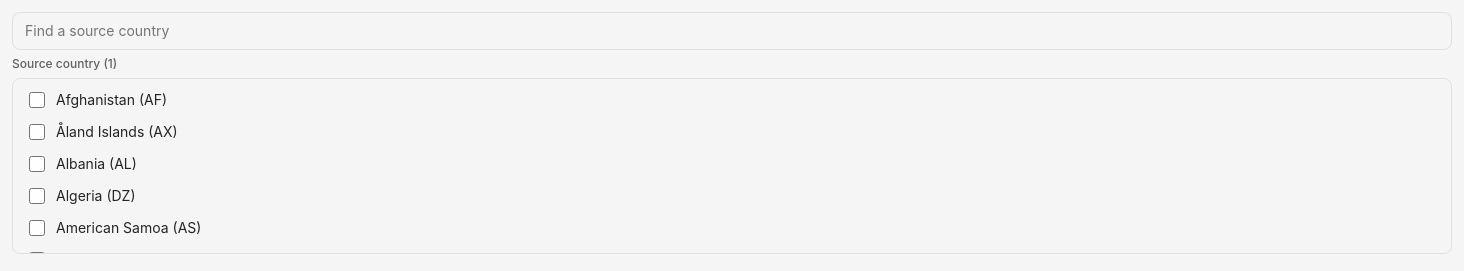
Test: keeps a selected country listed while the search hides the others
Type "fran" into the field labelled "Find a source country". click: {"x": 732, "y": 31}
box: left=12, top=12, right=1452, bottom=50
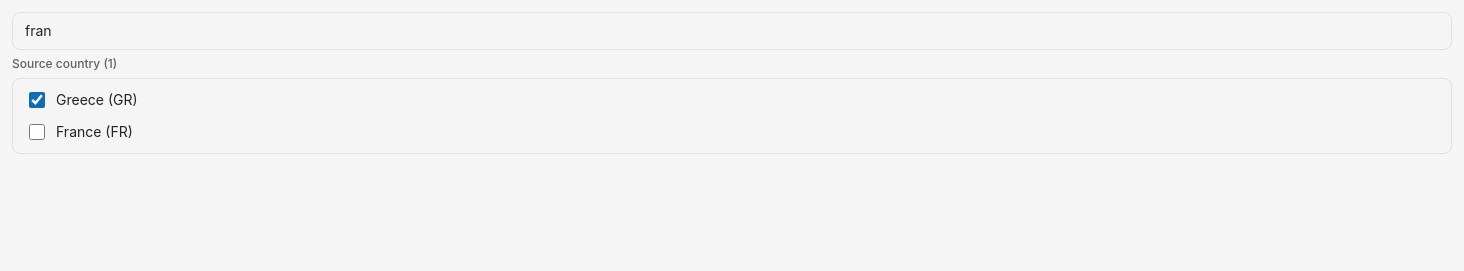
Expected: the element "Source country (1)" is shown, left=12, top=56, right=1452, bottom=154
Now the checkbox labelled "Greece (GR)" is checked, box left=29, top=92, right=45, bottom=108
